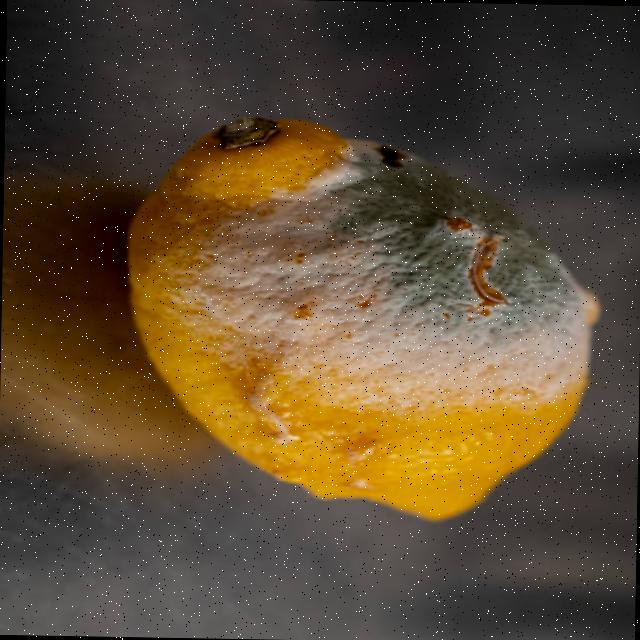Rotten: (116, 113, 607, 528)
